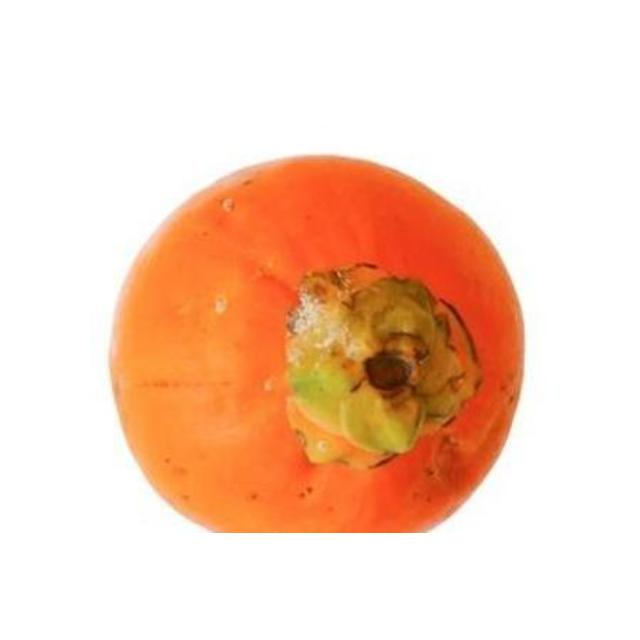good: (107, 154, 526, 532)
